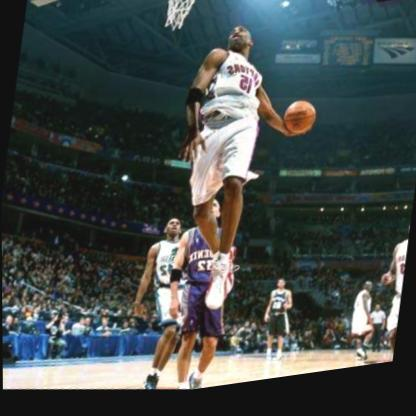basketball: (281, 105, 317, 145)
